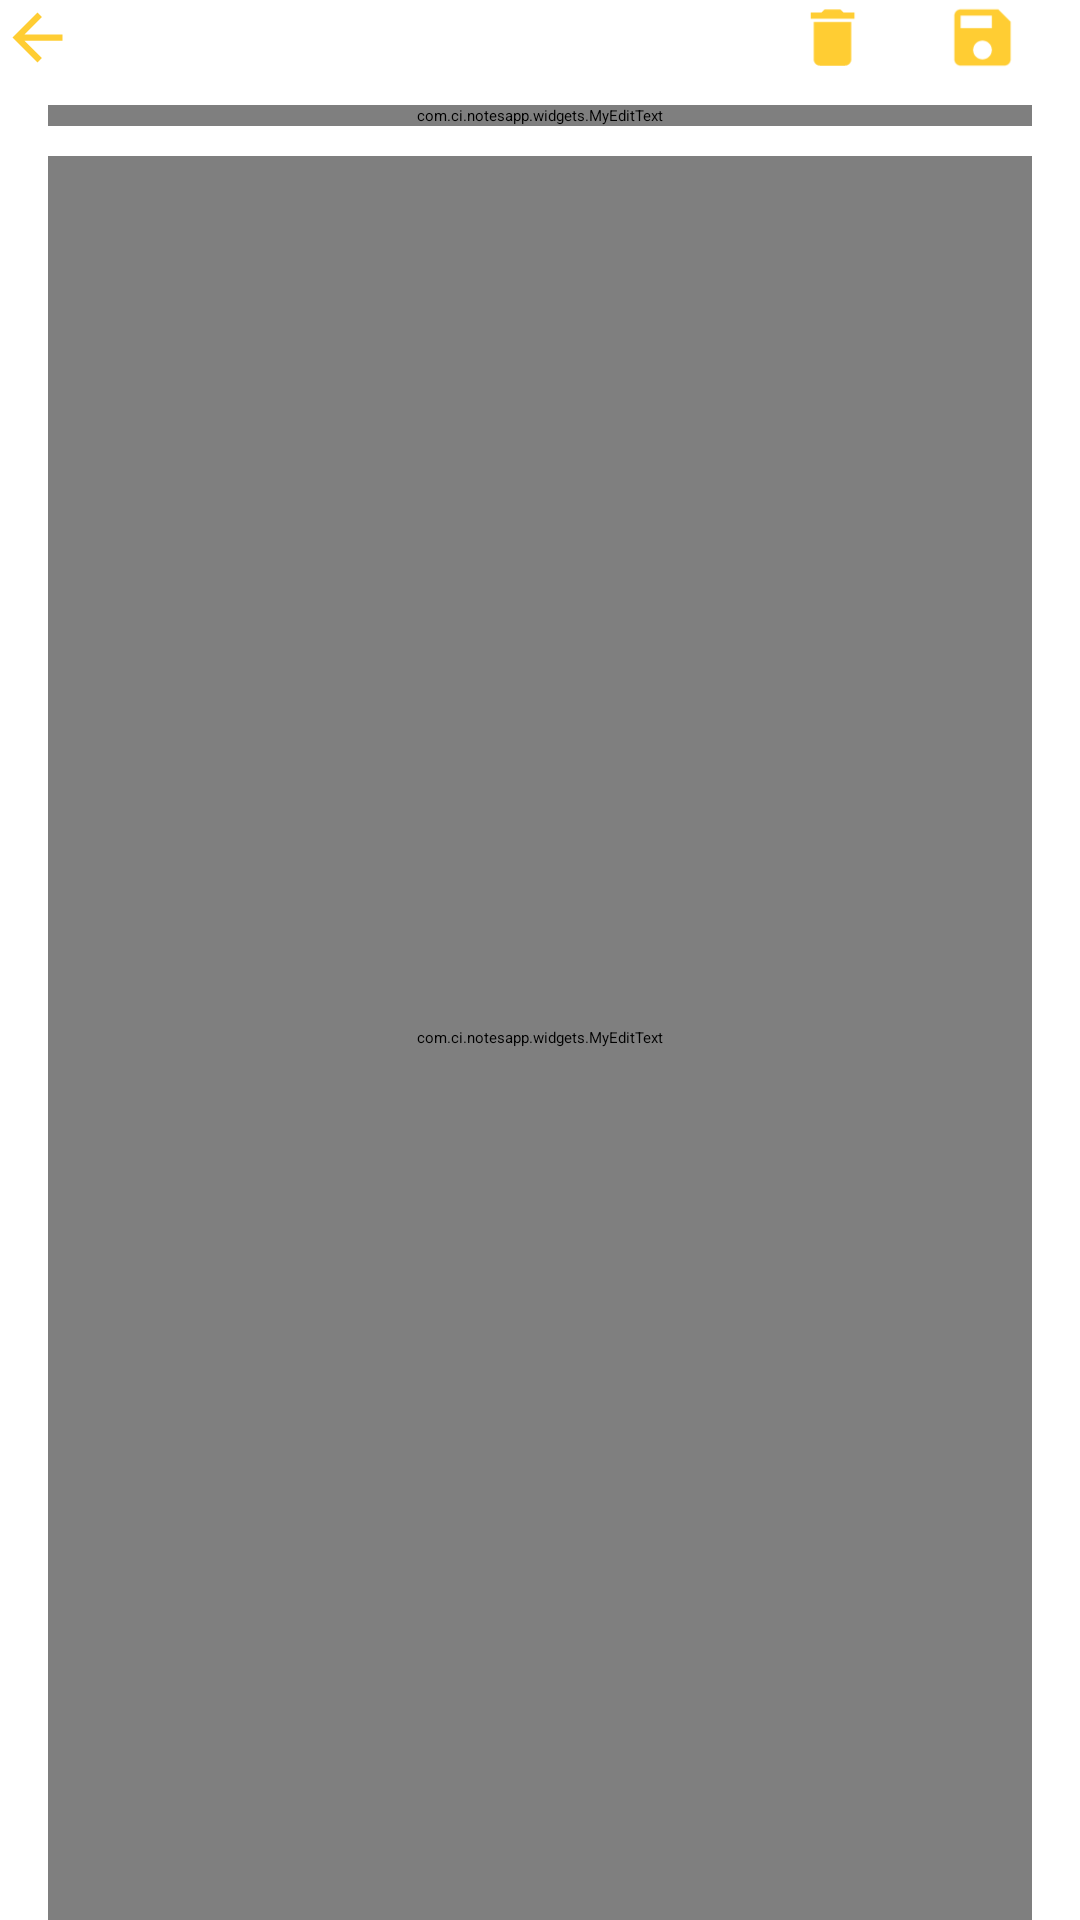

Icons on this 1080×1920 Android screen, each with its box as bbox(x1, y1, x2, y2):
backgold: bbox(12, 12, 63, 63)
deletegold: bbox(810, 9, 855, 66)
savegold: bbox(954, 9, 1011, 66)
